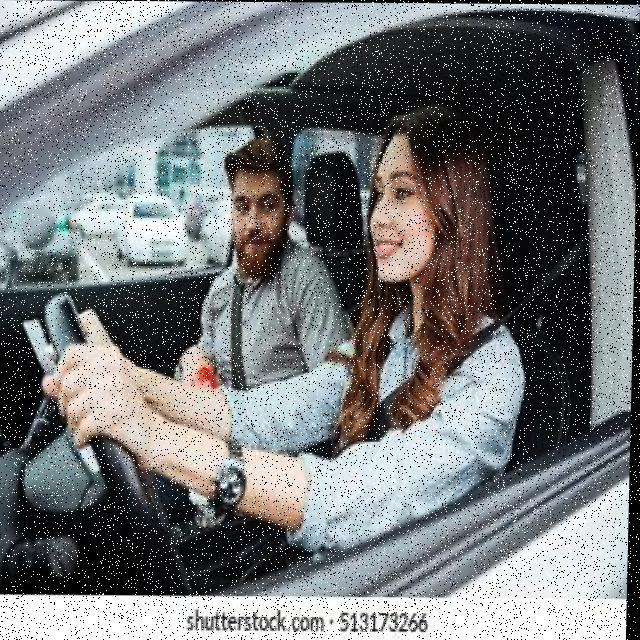seatbelt: (352, 270, 520, 510), (198, 239, 317, 383)
